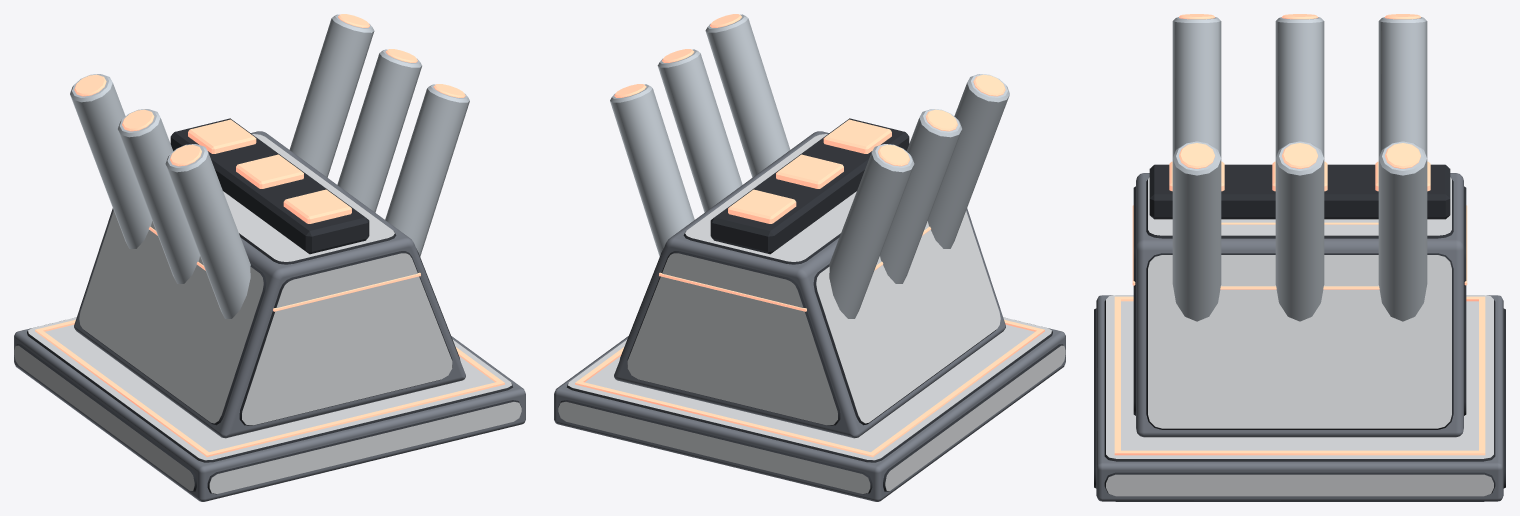
The model's file is R4X_Overdrive.fbx.
The picture shows the model from 3 angles, left to right: view 1: azimuth 30°, elevation 25°; view 2: azimuth 150°, elevation 25°; view 3: azimuth 270°, elevation 25°; orthographic projection. The views are drawn at different scales.
Visible parts, largest first — view 1: R4X_Overdrive_Body; view 2: R4X_Overdrive_Body; view 3: R4X_Overdrive_Body.
Boxes of the visible parts, x1,y1,x2,y2 form: R4X_Overdrive_Body: [14, 14, 525, 501]; R4X_Overdrive_Body: [554, 14, 1065, 501]; R4X_Overdrive_Body: [1094, 14, 1505, 501].
Size of the model in its own units: 0.52 by 0.4737 by 0.52.
